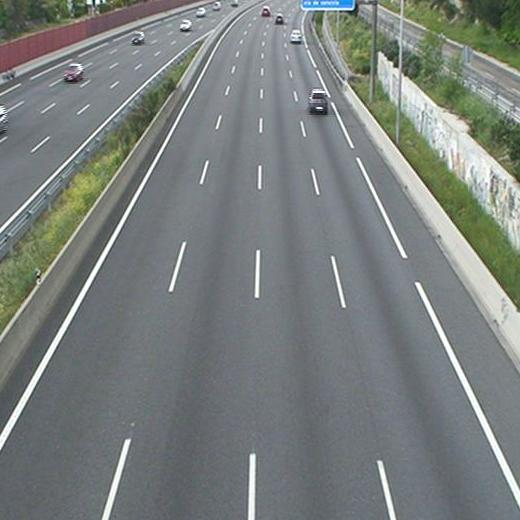car: (308, 89, 328, 113), (290, 28, 302, 42)
